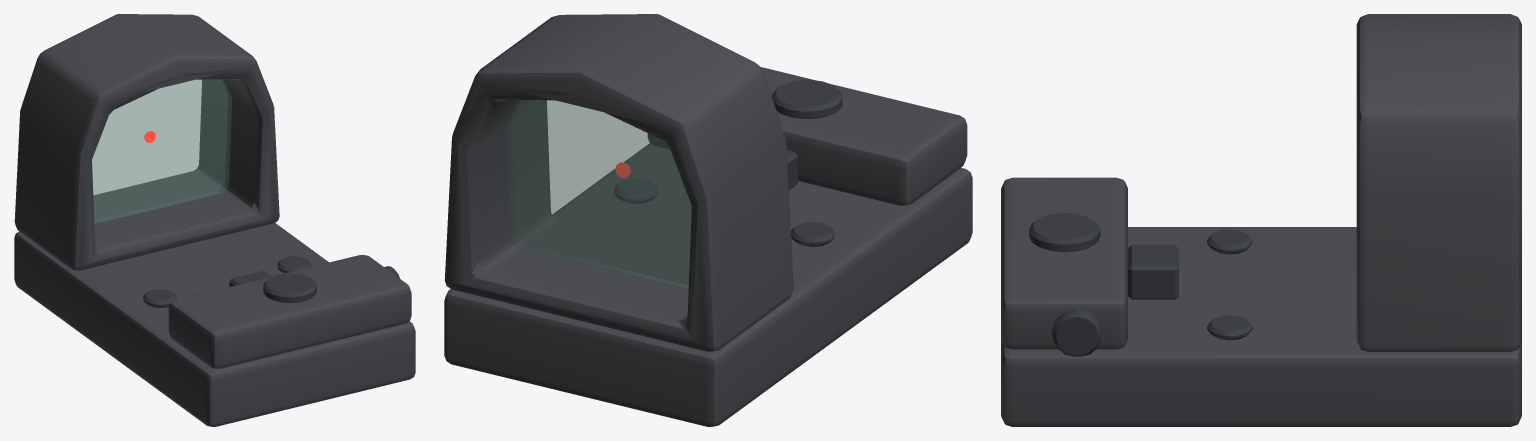
File: mod_w45_reflex_sight.glb
3 renders of one model, left to right at view 1: azimuth 30°, elevation 25°; view 2: azimuth 150°, elevation 25°; view 3: azimuth 270°, elevation 25°, orthographic. The views are drawn at different scales.
Visible parts, largest first — view 1: ReflexSight, ReflexLens, ReflexSightDetails; view 2: ReflexSight, ReflexLens, ReflexSightDetails; view 3: ReflexSight, ReflexSightDetails.
Boxes of the visible parts, x1=… form: ReflexSight: x1=14, y1=14, x2=415, y2=426; ReflexLens: x1=92, y1=79, x2=231, y2=223; ReflexSightDetails: x1=143, y1=256, x2=399, y2=307; ReflexSight: x1=444, y1=14, x2=972, y2=426; ReflexLens: x1=507, y1=100, x2=691, y2=289; ReflexSightDetails: x1=614, y1=80, x2=842, y2=246; ReflexSight: x1=1001, y1=14, x2=1521, y2=426; ReflexSightDetails: x1=1029, y1=213, x2=1252, y2=356.
Bounding box in the file's own units: 0.0255 × 0.0285 × 0.041.
